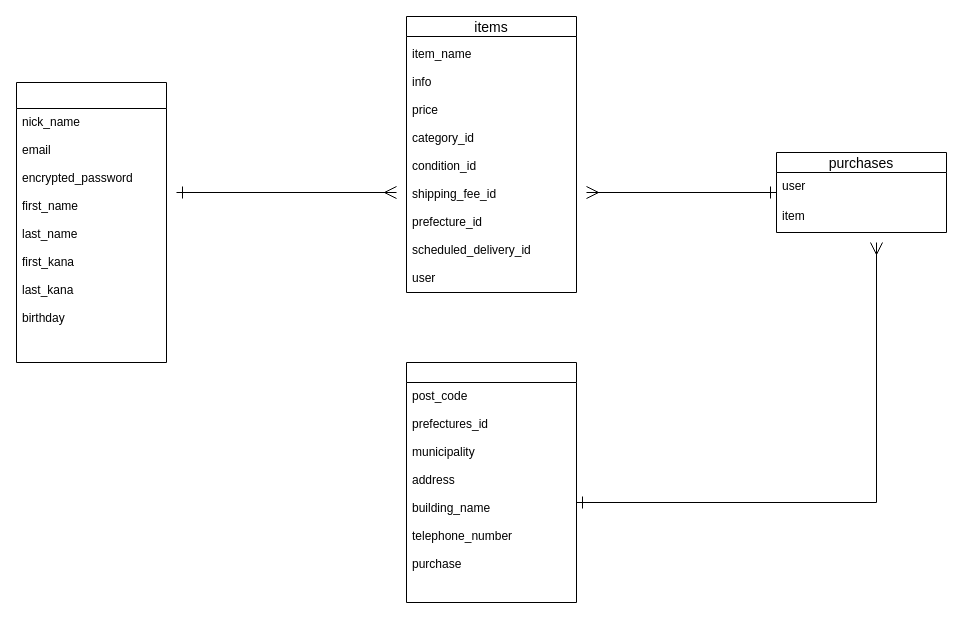
The diagram is 963 pixels wide and 619 high, and some of its shapes have lost their labels. The box of each missing label's shape, as (x1, y1, x2, y2) in pixels:
addresses: (406, 362, 576, 602)
users: (16, 82, 166, 362)
